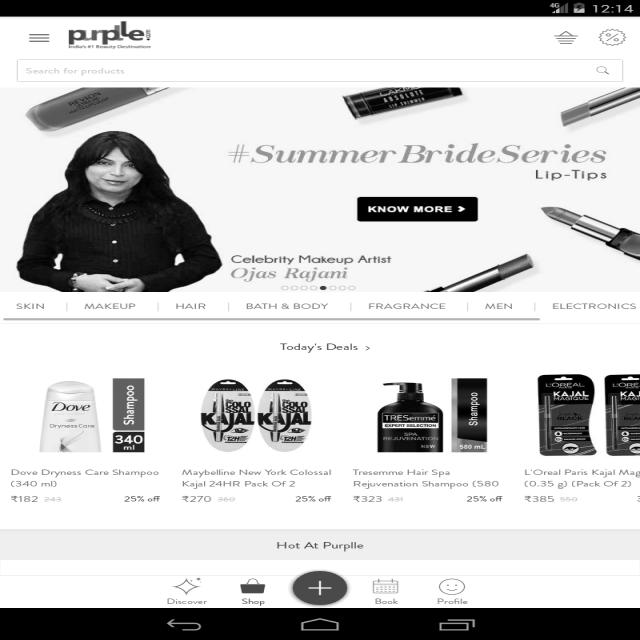Button: (1, 523, 633, 565)
EditText: (12, 54, 630, 84)
ImageButton: (286, 570, 352, 606), (540, 24, 582, 48), (591, 22, 627, 49), (19, 24, 55, 49)
ImageView: (18, 86, 625, 294), (366, 372, 494, 454), (31, 378, 150, 458), (191, 377, 312, 455), (534, 370, 635, 460), (62, 22, 164, 50), (234, 575, 274, 596), (168, 575, 207, 595), (434, 575, 472, 593), (368, 576, 406, 594)
TextView: (173, 461, 345, 488), (516, 464, 634, 488), (273, 332, 378, 357), (244, 299, 342, 313)
